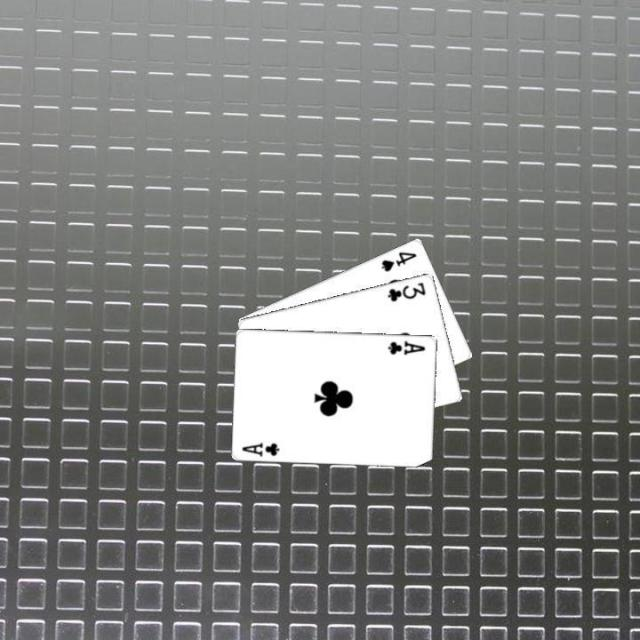3C: (384, 278, 428, 303)
4S: (378, 247, 418, 273)
AC: (238, 438, 282, 458), (385, 336, 427, 356)
